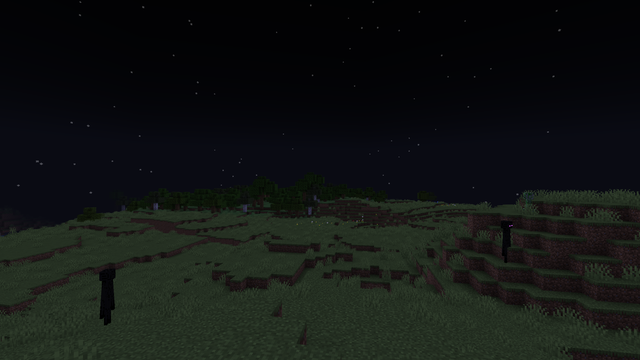creepers: (521, 191, 534, 213)
endermens: (97, 266, 117, 326), (499, 219, 513, 263)
